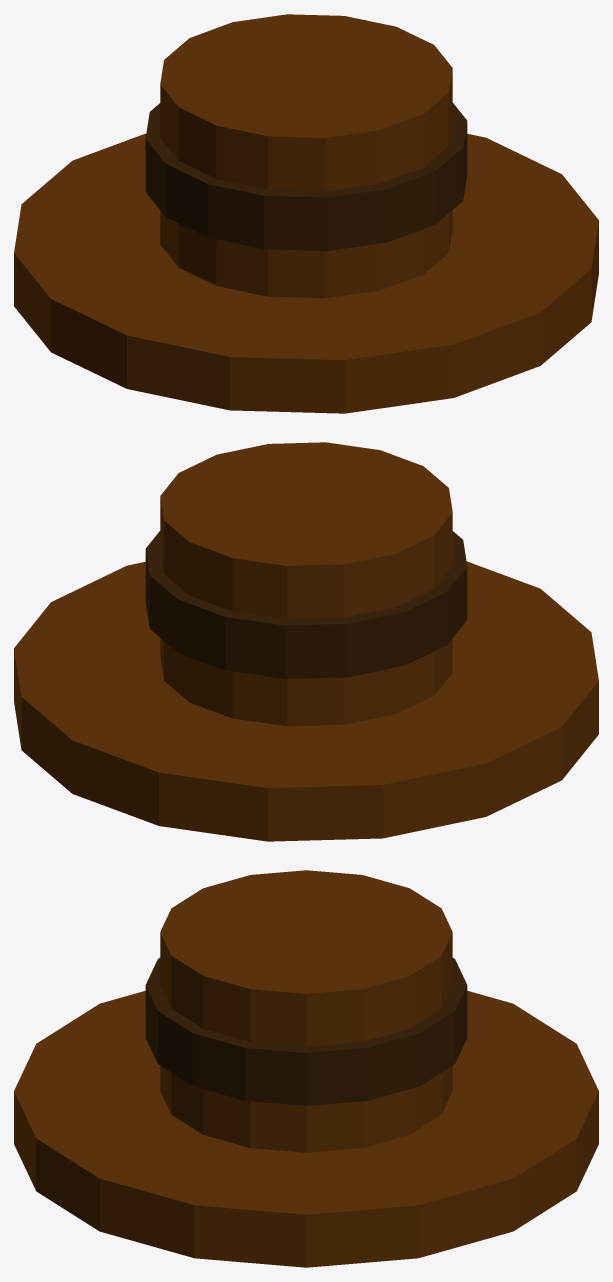
File: hat.fbx
3 views of the same model, one above another, from view 1: azimuth 30°, elevation 25°; view 2: azimuth 150°, elevation 25°; view 3: azimuth 270°, elevation 25° (orthographic).
Parts seen in each view (by area): view 1: 실린더.001, 실린더.002; view 2: 실린더.001, 실린더.002; view 3: 실린더.001, 실린더.002.
Boxes of the visible parts, x1=… form: 실린더.001: x1=14, y1=14, x2=598, y2=413; 실린더.002: x1=145, y1=103, x2=467, y2=250; 실린더.001: x1=14, y1=442, x2=598, y2=841; 실린더.002: x1=145, y1=531, x2=467, y2=678; 실린더.001: x1=14, y1=870, x2=598, y2=1267; 실린더.002: x1=145, y1=958, x2=467, y2=1105.
Size of the model in its own units: 200 by 80 by 200.
